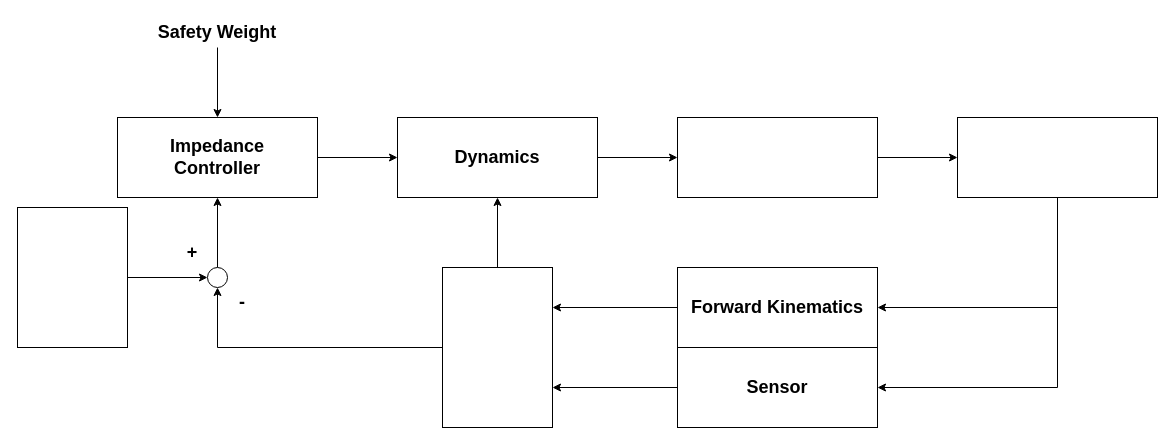
Image size: 1175x445. Some labels were removed from this diagram. Here are the shapes that lost their labels. From the top down, the centre of each, then its label:
At pixel 777 157: "Torque Command Generator".
At pixel 1057 157: "Servo Drive".
